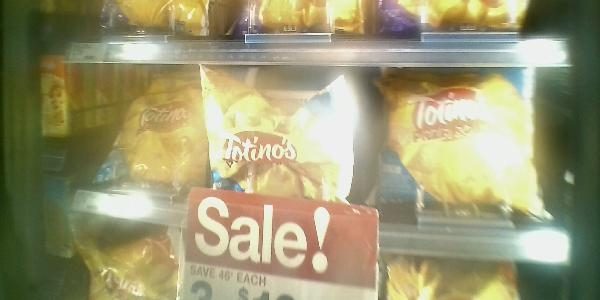icecream: (204, 59, 381, 243), (380, 67, 564, 231), (96, 64, 206, 206)
